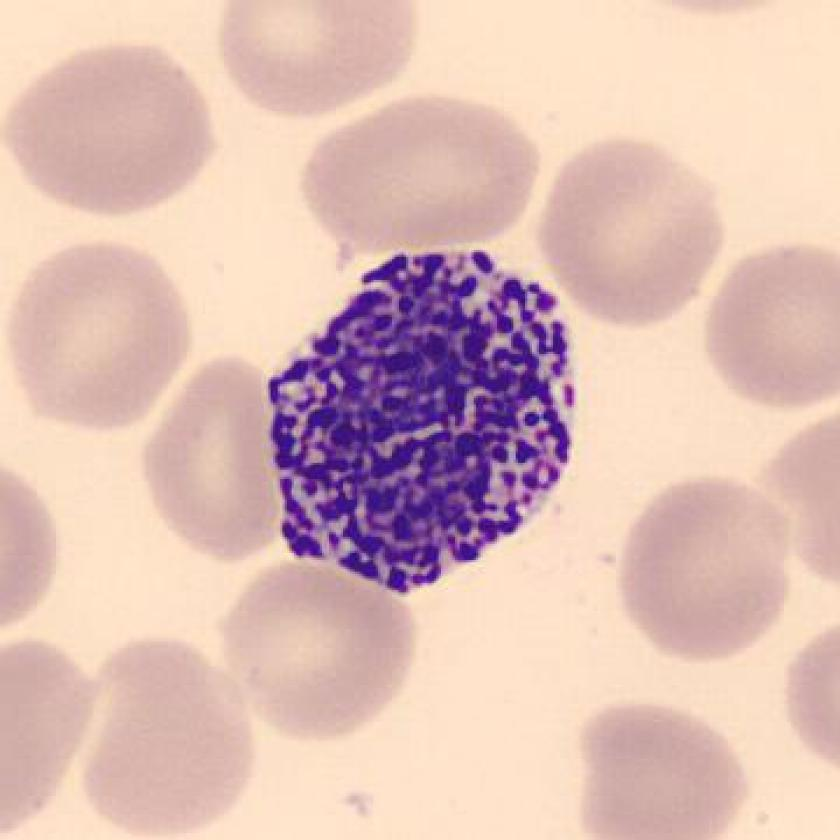basophil: (260, 235, 591, 598)
